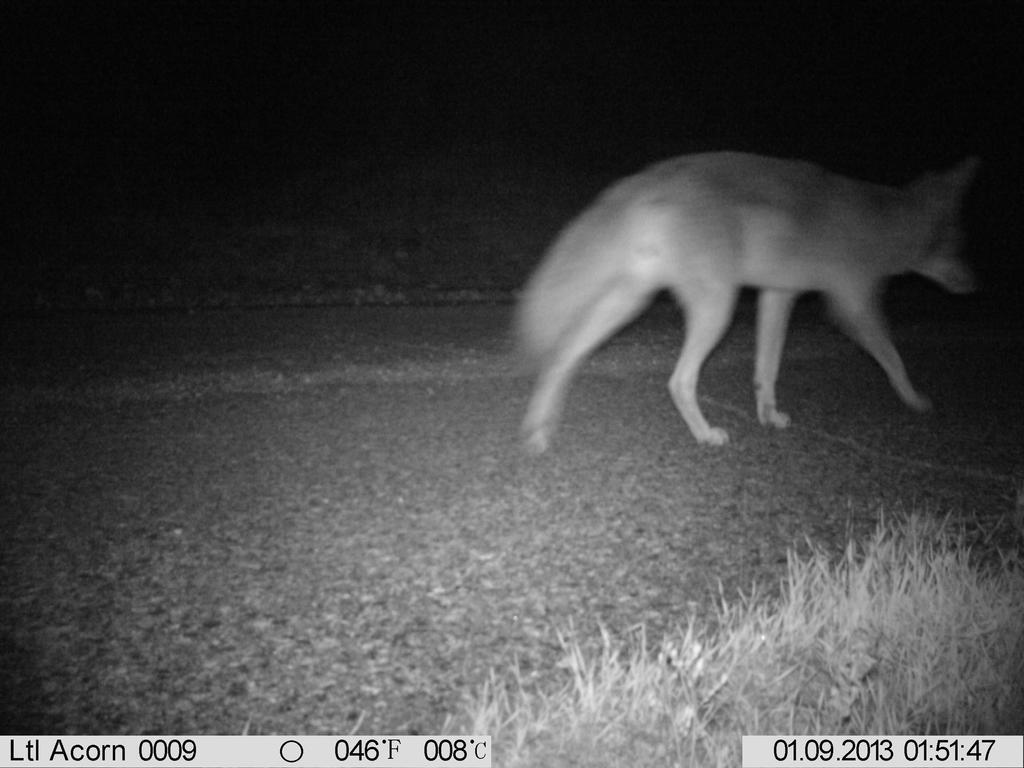coyote: (481, 131, 994, 465)
